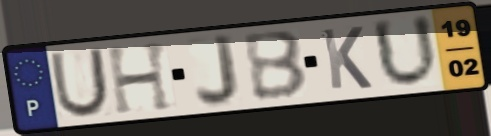B: (239, 28, 311, 103)
H: (103, 39, 176, 117)
J: (192, 32, 242, 109)
K: (318, 24, 375, 92)
U: (368, 12, 442, 90), (47, 46, 111, 120)
